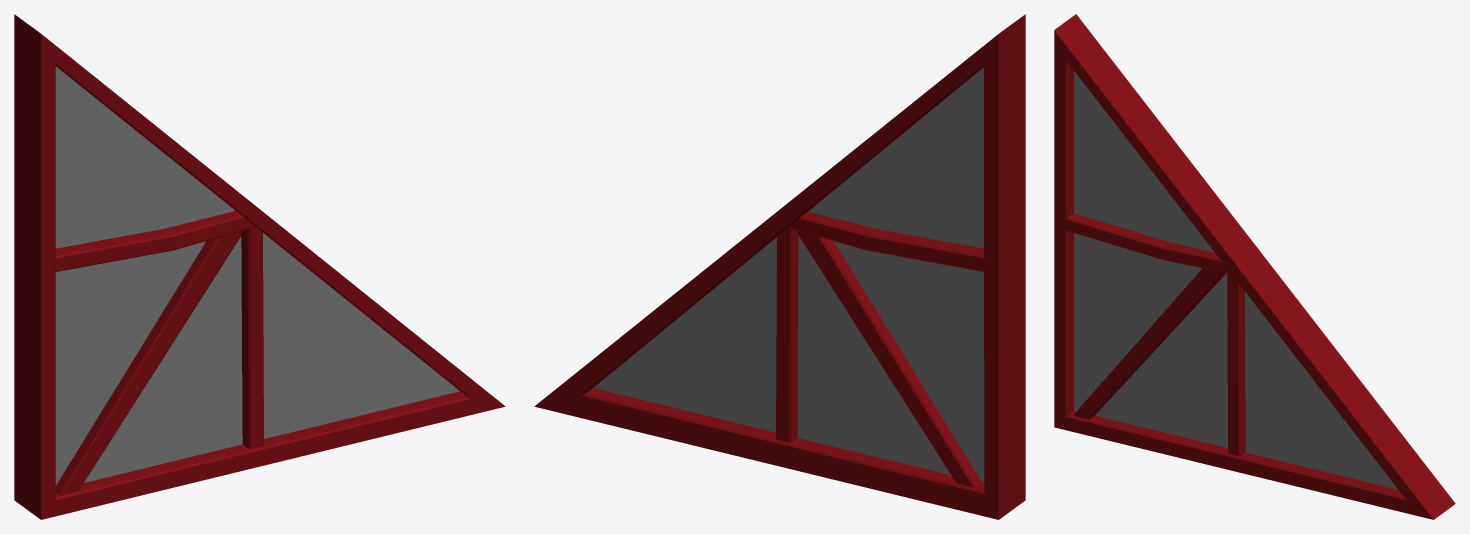
Rendered from SM_MH_01_Wood_01_Wall_Roof_R_01.fbx.
The picture shows the model from 3 angles, left to right: view 1: azimuth 30°, elevation 25°; view 2: azimuth 150°, elevation 25°; view 3: azimuth 330°, elevation 25°; orthographic projection. The views are drawn at different scales.
Visible parts, largest first — view 1: SM_MH_01_Wood_01_Wall_Roof_R_01_LOD0; view 2: SM_MH_01_Wood_01_Wall_Roof_R_01_LOD0; view 3: SM_MH_01_Wood_01_Wall_Roof_R_01_LOD0.
Boxes of the visible parts, left/top/right/bottom form: SM_MH_01_Wood_01_Wall_Roof_R_01_LOD0: left=14, top=14, right=505, bottom=519; SM_MH_01_Wood_01_Wall_Roof_R_01_LOD0: left=534, top=14, right=1025, bottom=519; SM_MH_01_Wood_01_Wall_Roof_R_01_LOD0: left=1054, top=14, right=1455, bottom=519.
Size of what is drawn, in the model's own units: 300 by 300 by 30.2.
